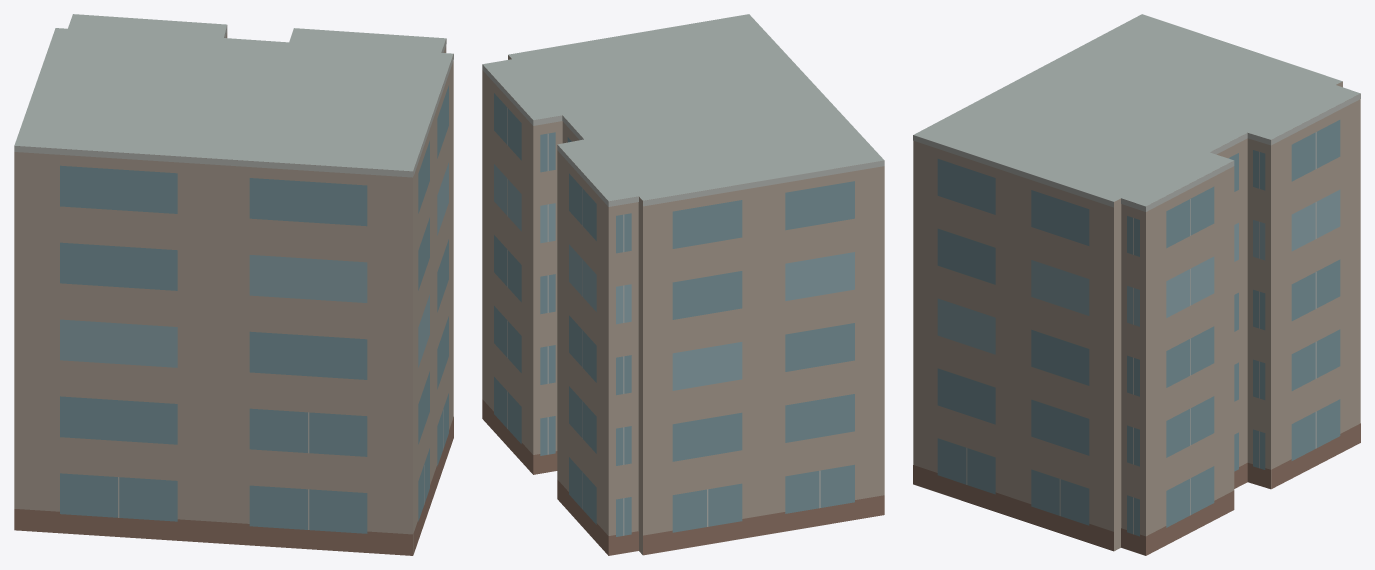
The model's file is survey-upis-32526484.glb.
The picture shows the model from 3 angles, left to right: view 1: azimuth 30°, elevation 25°; view 2: azimuth 150°, elevation 25°; view 3: azimuth 270°, elevation 25°; orthographic projection. The views are drawn at different scales.
Visible parts, largest first — view 1: survey-upis-32526484.tmp; view 2: survey-upis-32526484.tmp; view 3: survey-upis-32526484.tmp.
Part boxes in pixels (x1,y1,x2,y2): survey-upis-32526484.tmp: (14, 14, 453, 555); survey-upis-32526484.tmp: (482, 14, 884, 555); survey-upis-32526484.tmp: (913, 14, 1360, 555).
Bounding box in the file's own units: 18.03 × 15.25 × 17.71.
